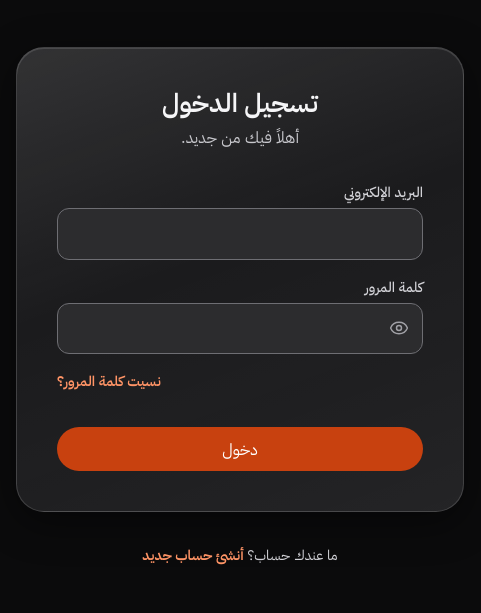
LoginPage › shows the server error on wrong credentials
This screenshot has width=481, height=613.
Type "a@test.com" into the field labelled "البريد الإلكتروني" at coordinates (240, 234), box left=57, top=208, right=423, bottom=260
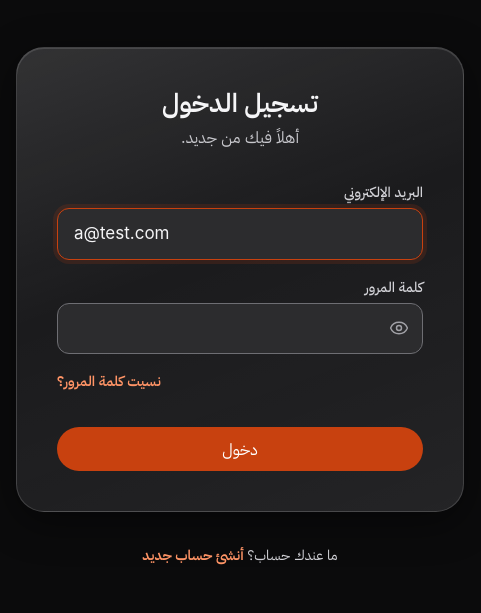
Type "password123" into the password field labelled "كلمة المرور" at coordinates (240, 328), box left=57, top=303, right=423, bottom=354
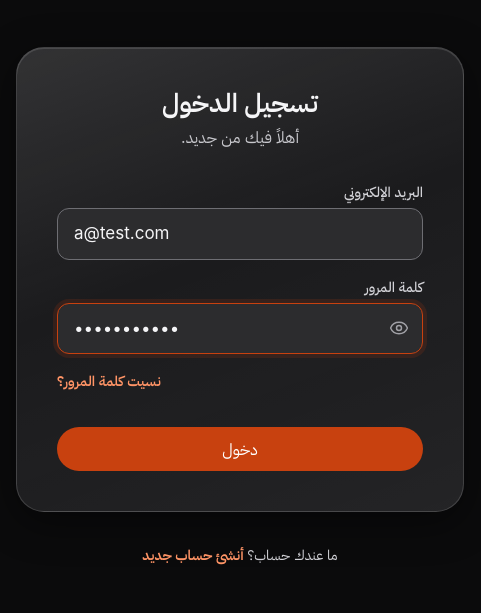
Click the button "دخول" at coordinates (240, 449), box left=57, top=427, right=423, bottom=471
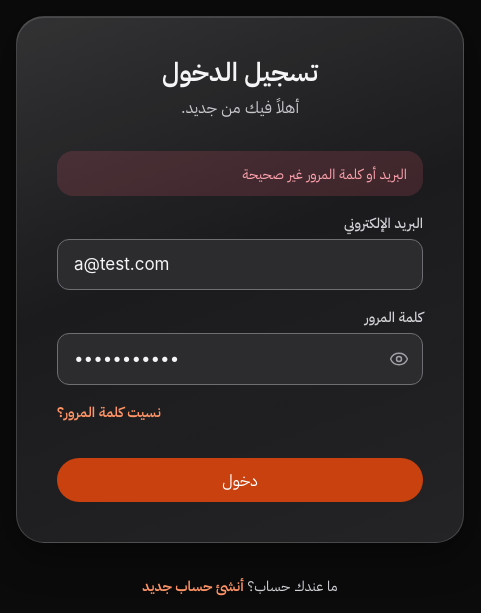
Expected: the message reads "البريد أو كلمة المرور غير صحيحة", left=242, top=165, right=407, bottom=182
